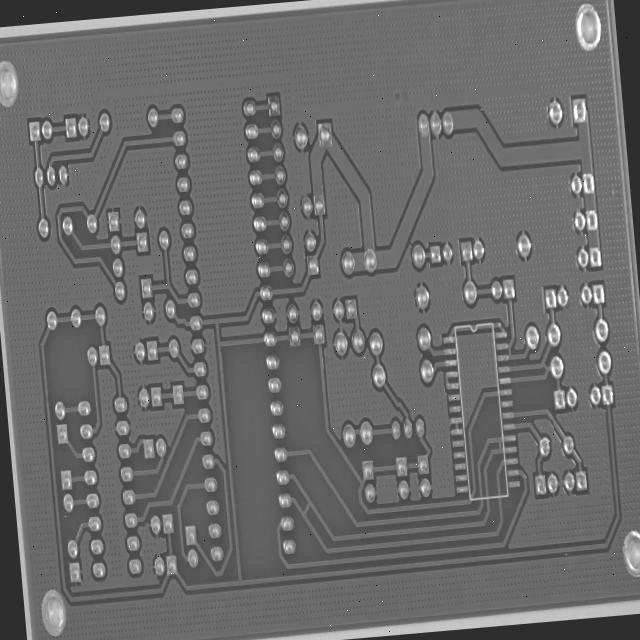short: (290, 577, 308, 612), (503, 395, 516, 422), (540, 419, 554, 443), (495, 505, 506, 533)
